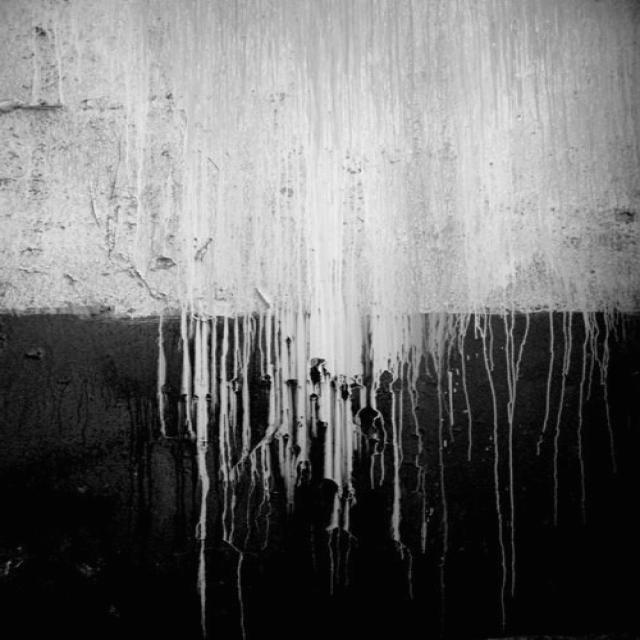paint drips: (149, 290, 625, 629)
